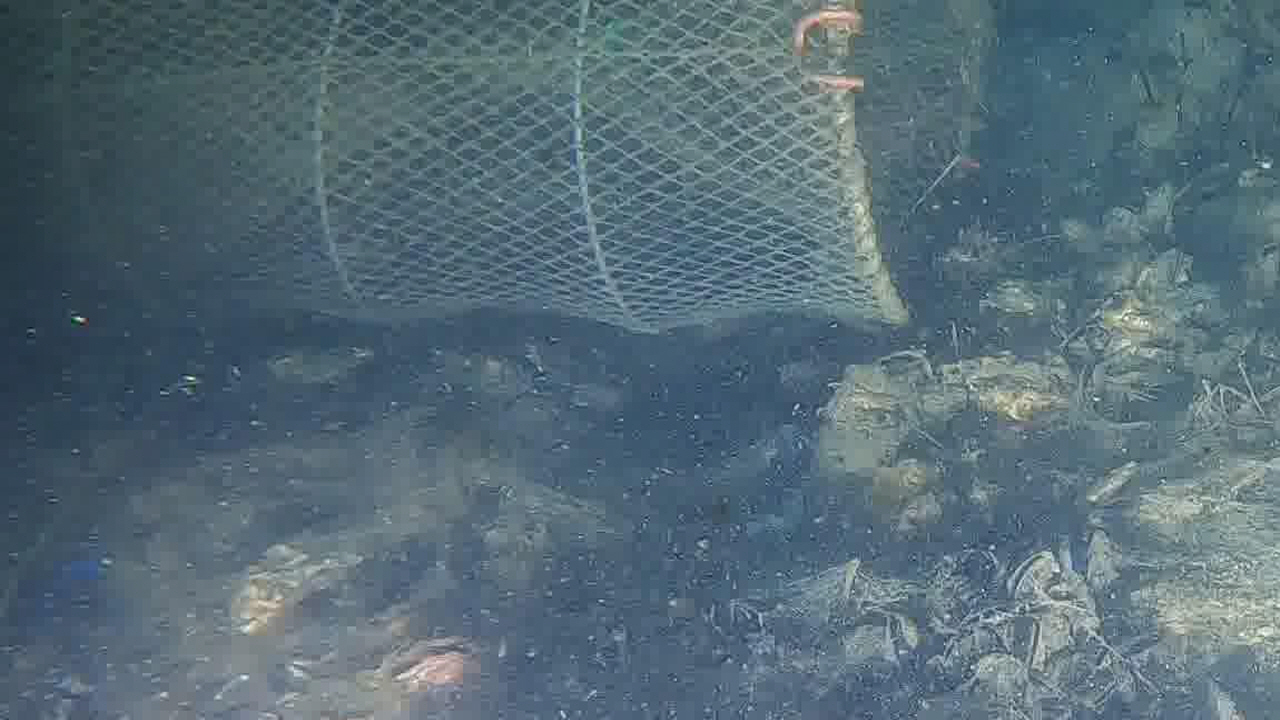spring fish trap: (0, 0, 986, 333)
